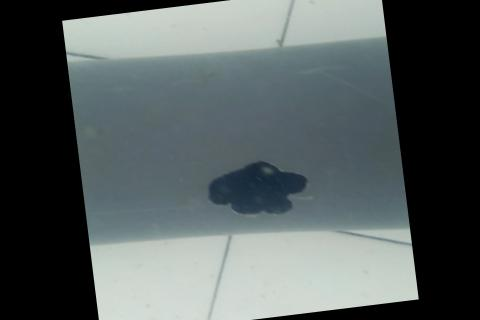kebocoran: (204, 151, 311, 223)
